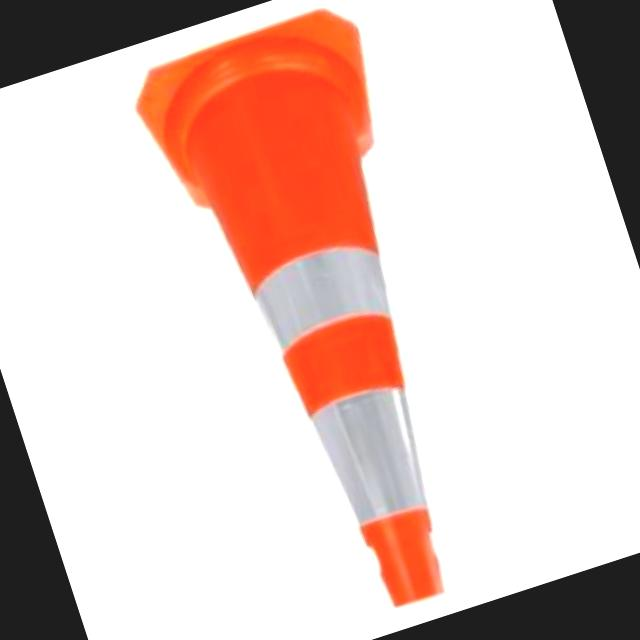cone: (122, 0, 531, 638)
